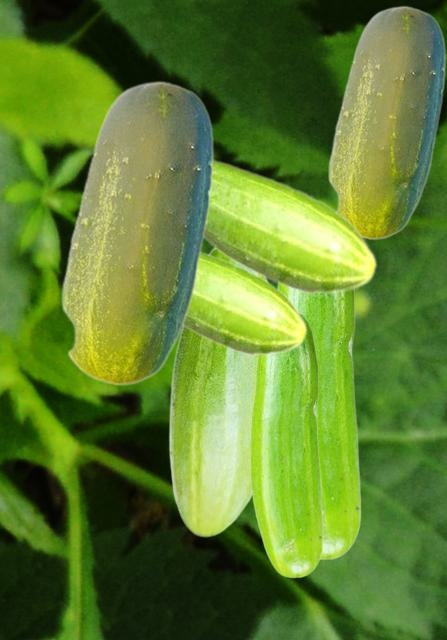cucumber: (60, 80, 212, 385), (327, 5, 444, 239), (168, 248, 256, 536), (205, 156, 377, 295), (277, 285, 360, 559), (250, 313, 322, 577), (184, 250, 307, 356)
